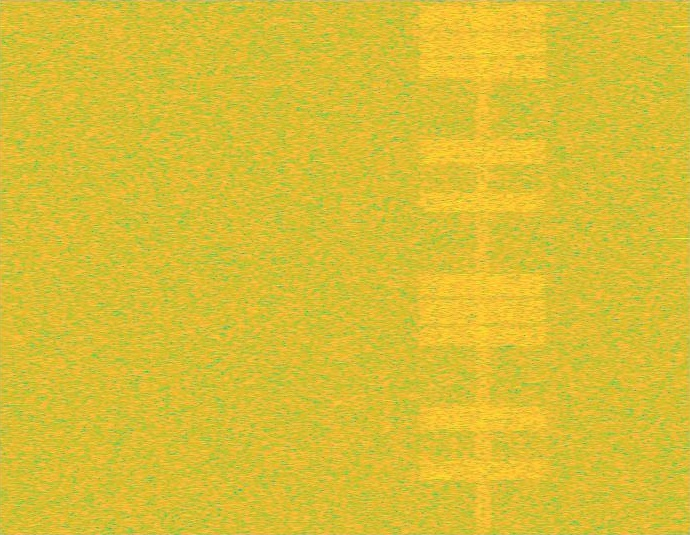DSSS: (474, 0, 492, 534)
LTE: (414, 0, 552, 534)
Radar: (676, 0, 689, 534)
